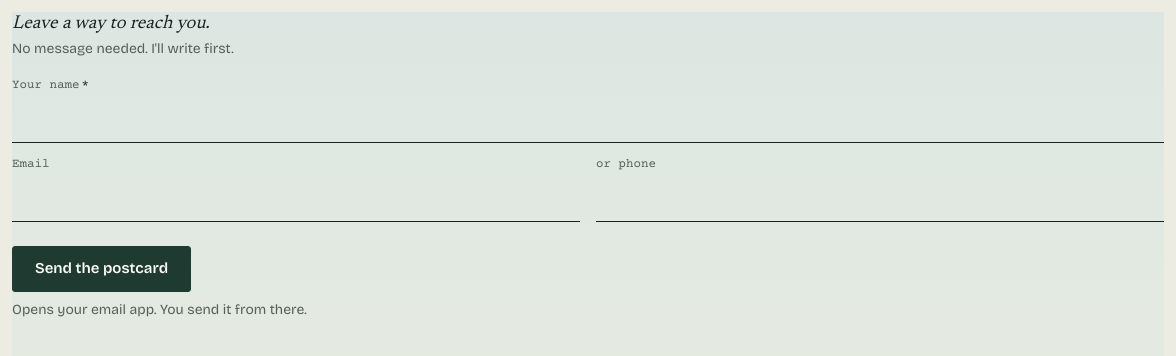
the lead form › opens the mail app instead of posting when delivery is not configured
Type "Jamie" into the field labelled "Your name*" at (588, 121), box [12, 99, 1164, 143]
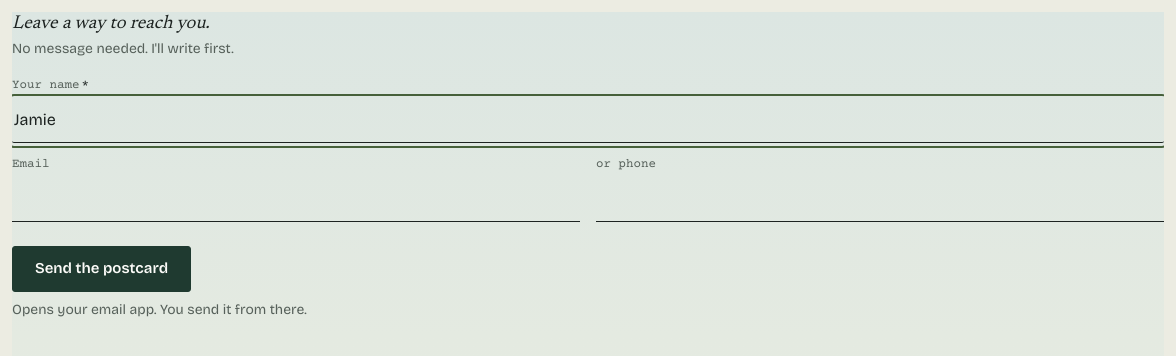
Type "864 555 0100" into the field labelled "or phone" at (880, 200), box [596, 178, 1164, 222]
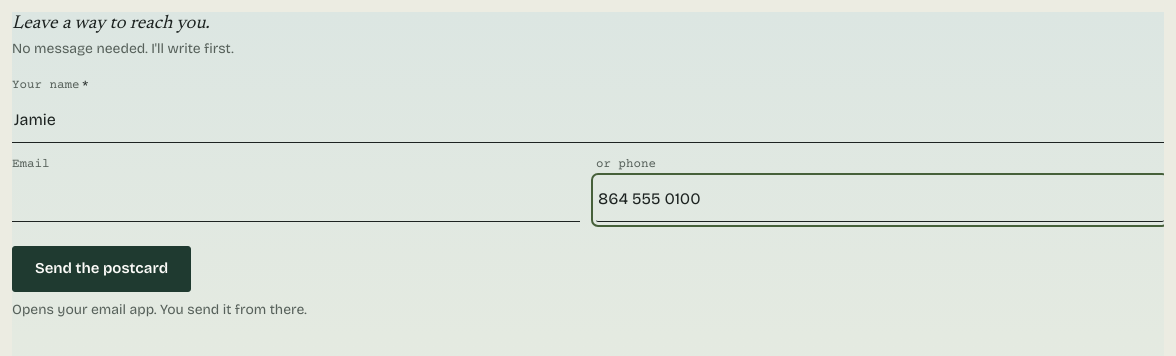
Click the button "Send the postcard" at (102, 269), box [12, 246, 191, 292]
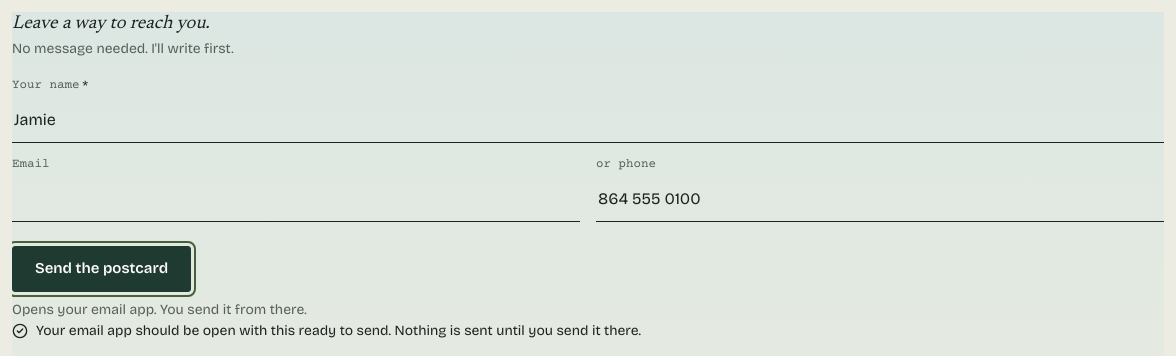
Expected: the message does not show "Got it — I'll be in touch.", [12, 322, 641, 338]
Expected: the message shows "email app", [36, 322, 641, 338]
